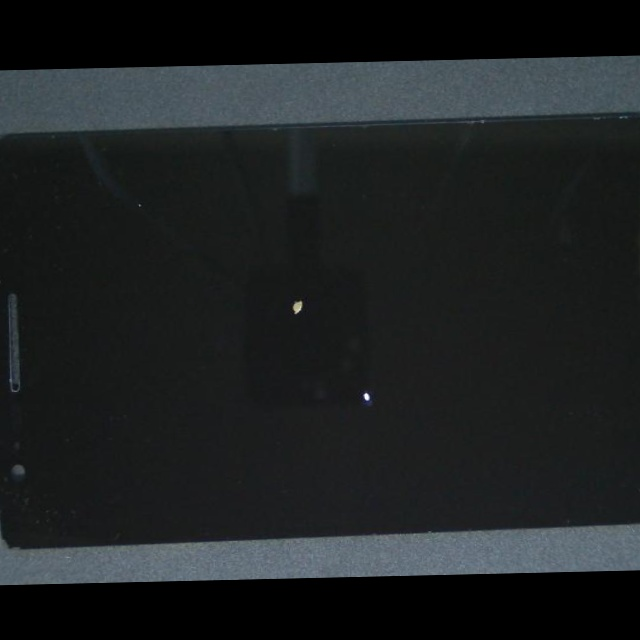stain: (134, 223, 565, 582), (73, 199, 472, 454)
